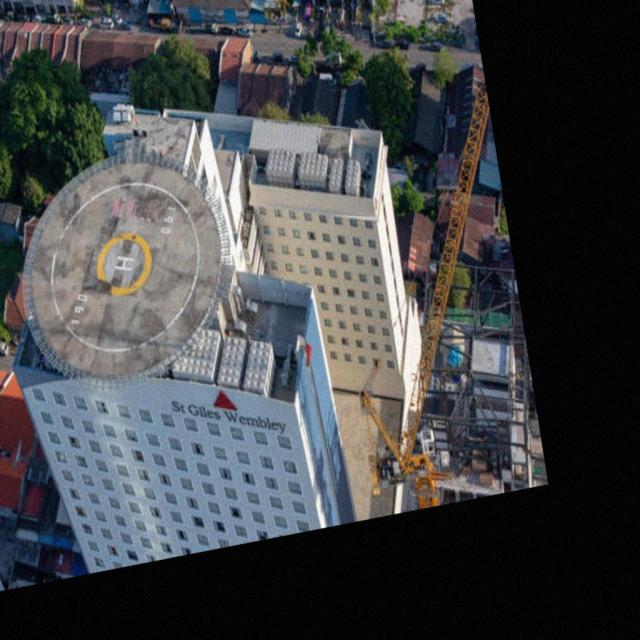helipad: (91, 231, 153, 296)
